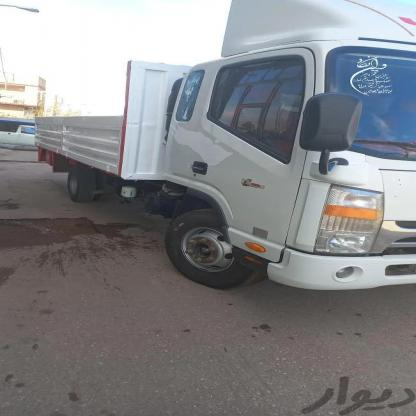Truck: (28, 0, 416, 307)
